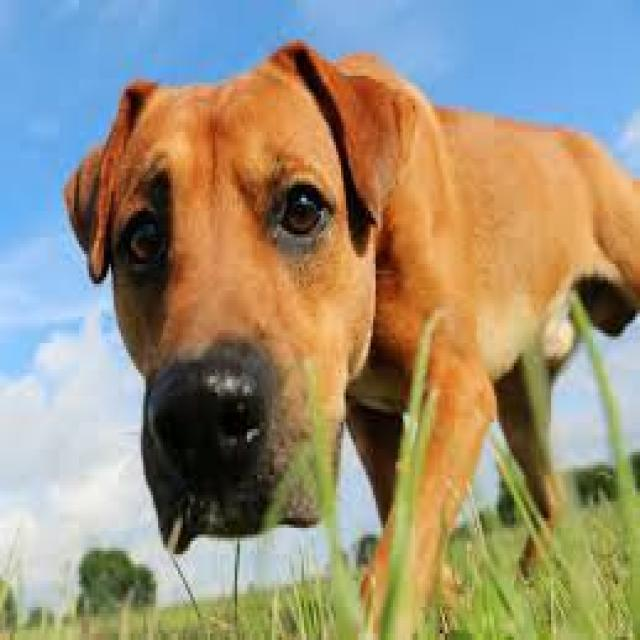Dog: (67, 42, 640, 608)
